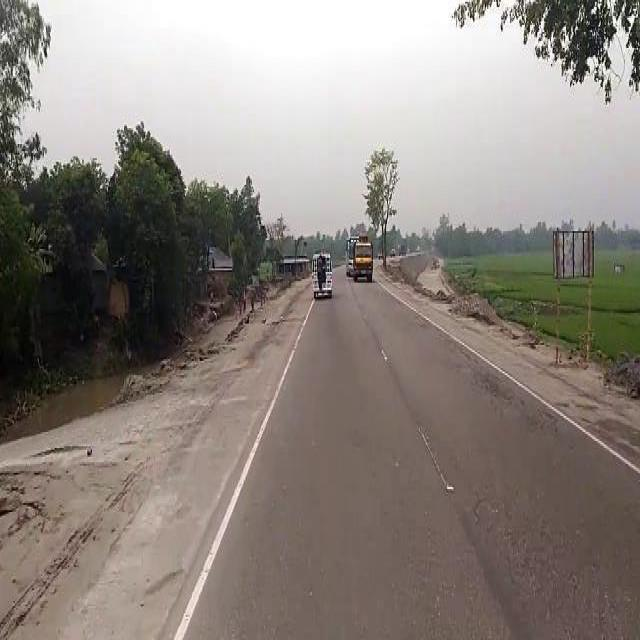vehicle: (311, 248, 334, 298), (353, 238, 374, 284), (346, 235, 359, 276)
